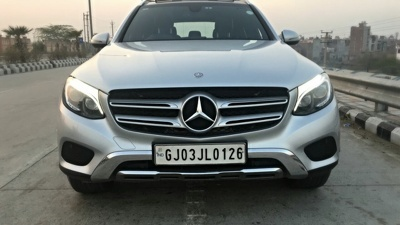plaka: (151, 142, 248, 165)
